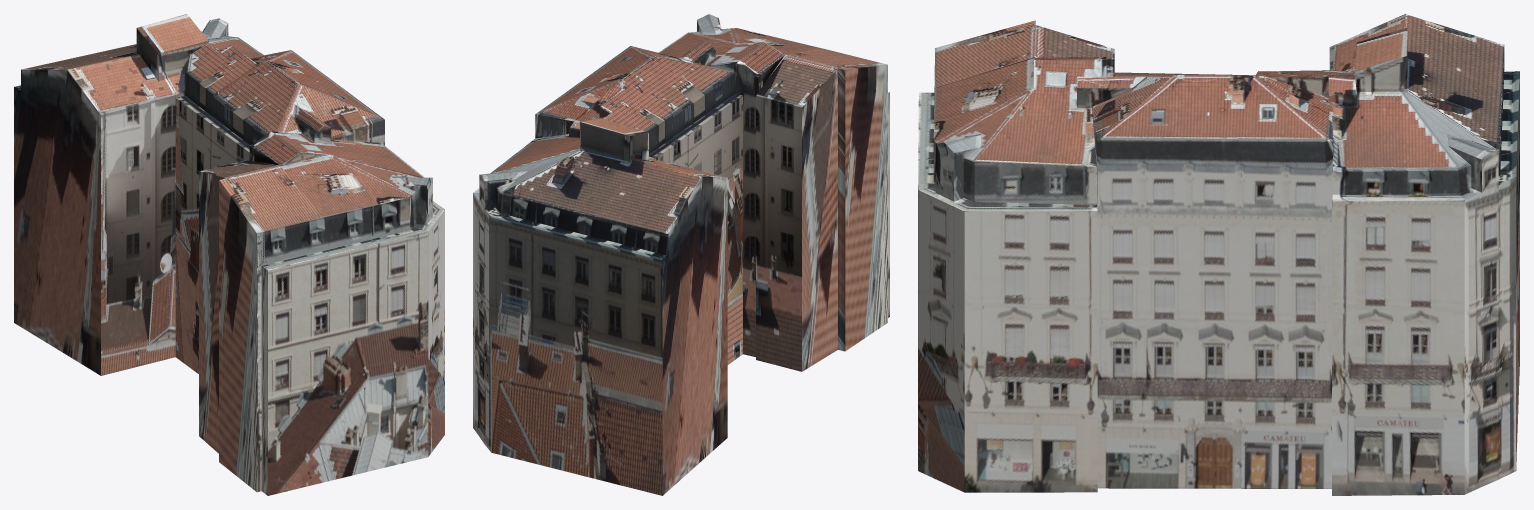
3 views of the same model, side by side, from view 1: azimuth 30°, elevation 25°; view 2: azimuth 150°, elevation 25°; view 3: azimuth 270°, elevation 25° (orthographic). The views are drawn at different scales.
Visible parts, largest first — view 1: Z_UP; view 2: Z_UP; view 3: Z_UP.
Boxes of the visible parts, box(x1,y1,x2,y2) form: Z_UP: box(14, 14, 444, 495); Z_UP: box(473, 14, 889, 495); Z_UP: box(918, 14, 1519, 495).
Size of the model in its own units: 20.01 by 27.77 by 39.07.
Materials: 2 (1 with a texture image).
